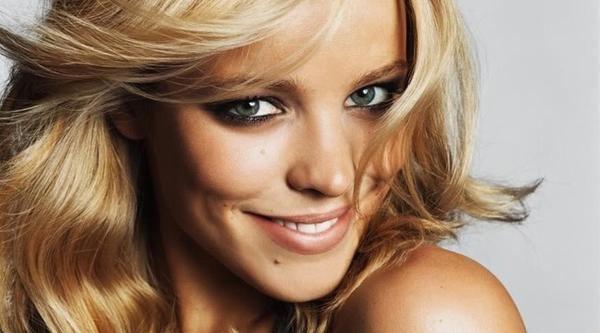mole: (268, 253, 285, 267)
